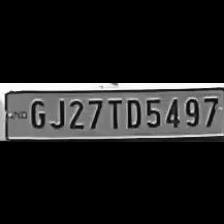2: (65, 96, 85, 130)
4: (162, 94, 180, 128)
5: (143, 94, 161, 128)
7: (85, 95, 103, 129), (201, 93, 219, 127)
9: (182, 94, 200, 126)
D: (122, 94, 142, 128)
G: (26, 96, 46, 128)
J: (48, 95, 66, 129)
T: (105, 95, 123, 129)
